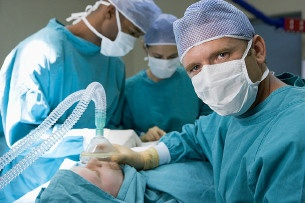Mask: (183, 49, 255, 121)
